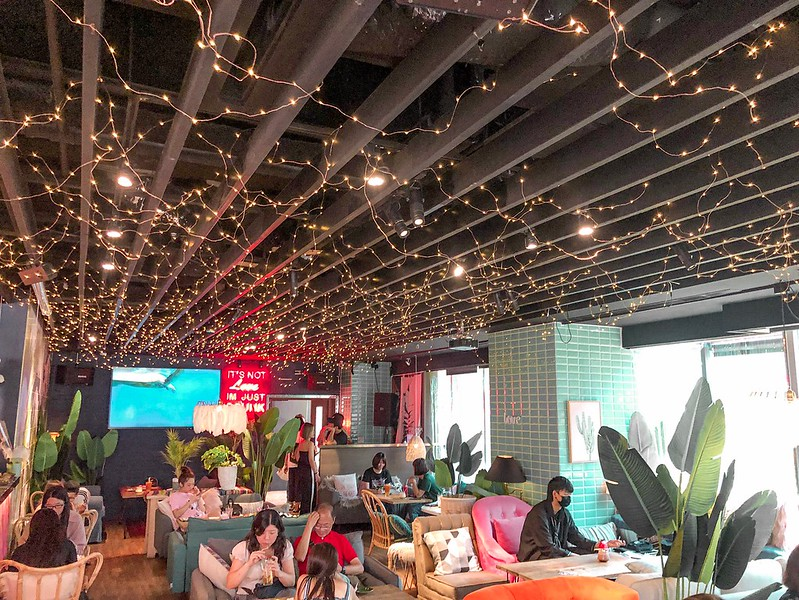people: (527, 481, 602, 558), (242, 513, 296, 584), (26, 511, 77, 581), (298, 544, 354, 600), (300, 509, 354, 565), (292, 420, 322, 509), (43, 490, 81, 558), (361, 453, 403, 498), (169, 472, 197, 536), (408, 458, 444, 502)
